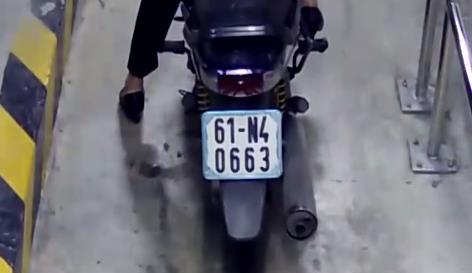lisence: (201, 110, 285, 180)
